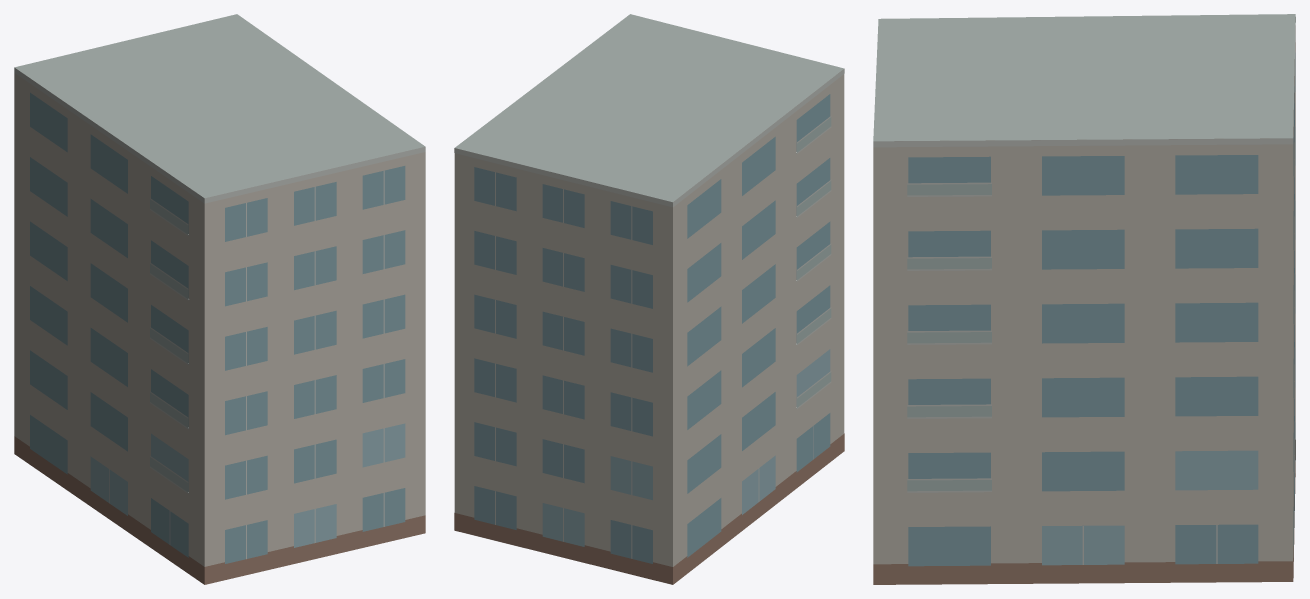
File: survey-upis-33016316.glb
3 renders of one model, left to right at view 1: azimuth 30°, elevation 25°; view 2: azimuth 150°, elevation 25°; view 3: azimuth 270°, elevation 25°, orthographic. The views are drawn at different scales.
Visible parts, largest first — view 1: survey-upis-33016316.tmp; view 2: survey-upis-33016316.tmp; view 3: survey-upis-33016316.tmp.
Boxes of the visible parts, <box> form: survey-upis-33016316.tmp: <box>14,14,425,584</box>; survey-upis-33016316.tmp: <box>454,14,844,584</box>; survey-upis-33016316.tmp: <box>873,14,1295,584</box>.
Bounding box in the file's own units: 11.04 × 17.9 × 15.46.
